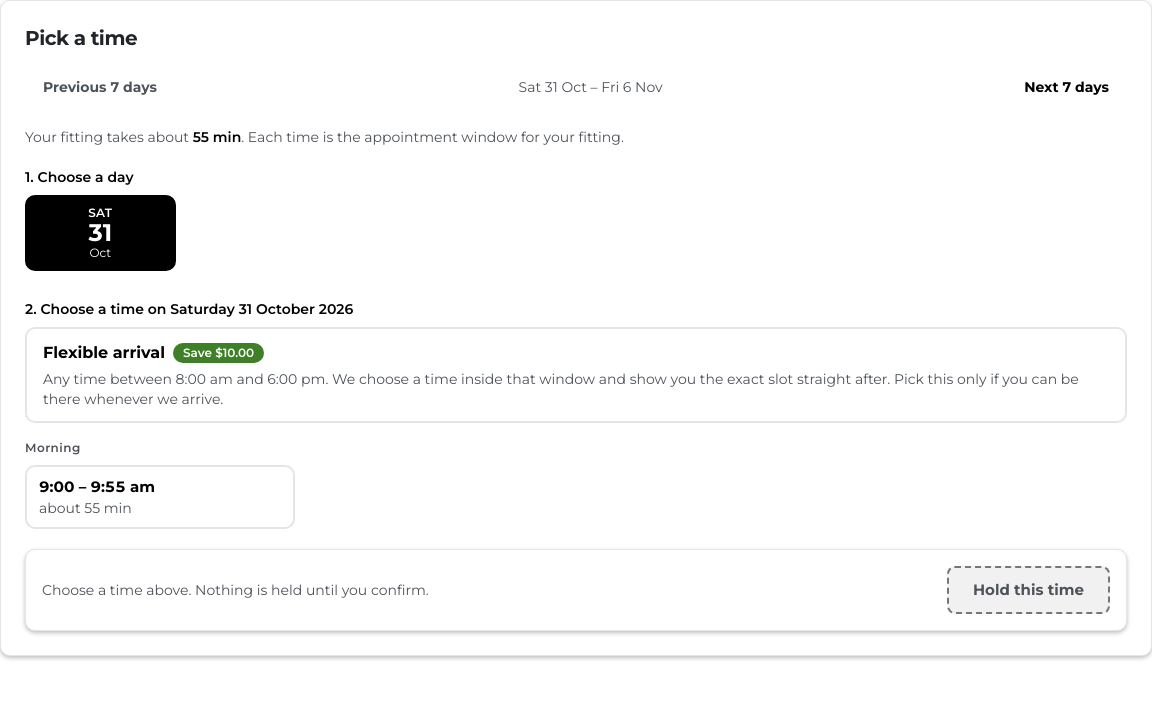
BookingFlow with flexible and promo › recovers from a 409: shows the message, refetches the times and lets the customer choose again
Click the radio button labelled "Flexible arrival" at (576, 375), box left=25, top=327, right=1127, bottom=423
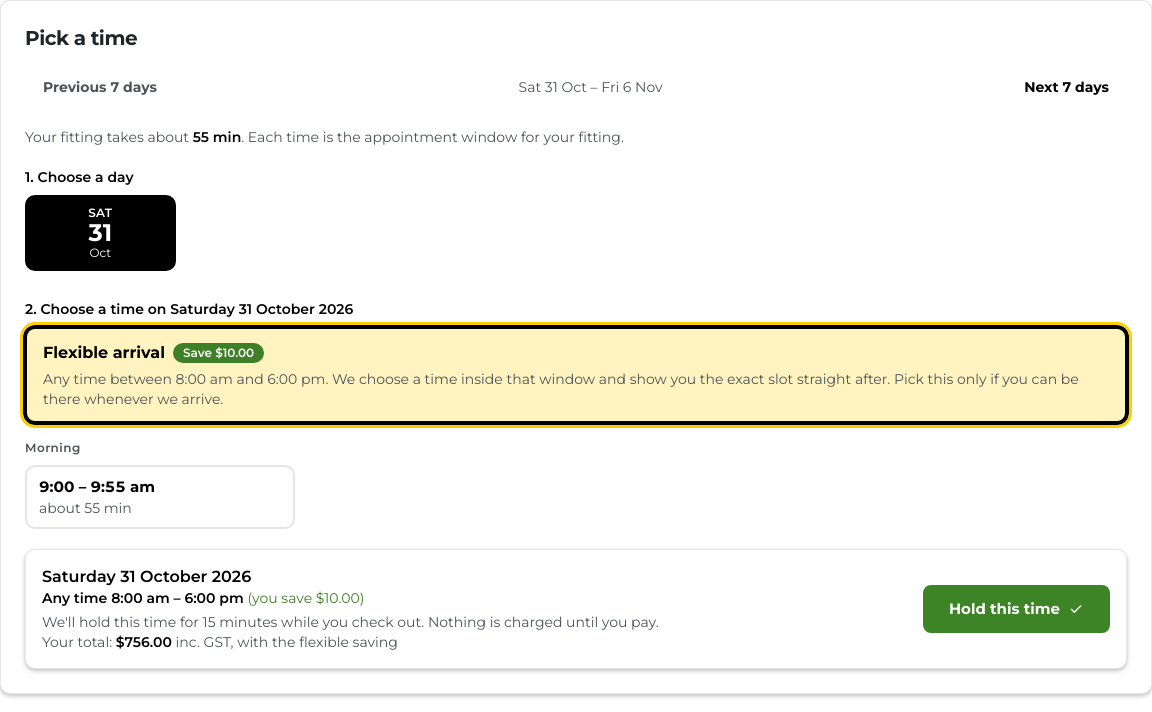
Click the button "Hold this time" at (1016, 609), box left=923, top=585, right=1110, bottom=633
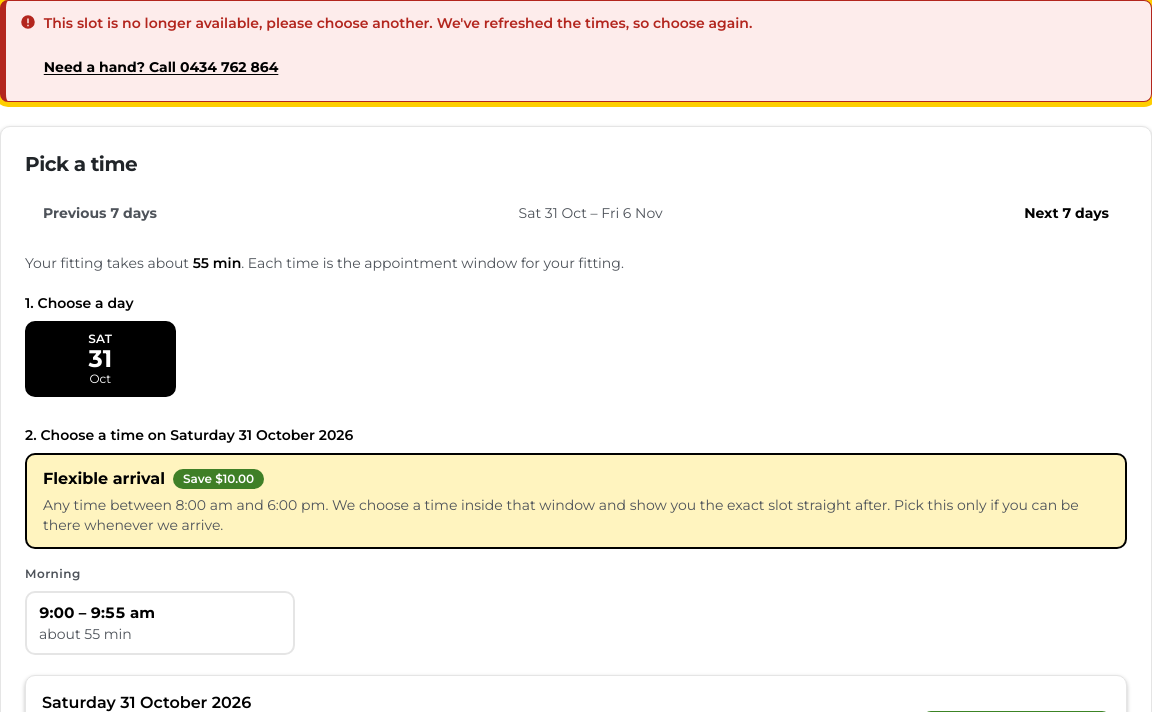
Expected: the message with test id "booking-alert" shows "This slot is no longer available, please choose another.", left=44, top=14, right=752, bottom=32
Expected: the message with test id "booking-alert" shows "refreshed the times", left=44, top=14, right=752, bottom=32
